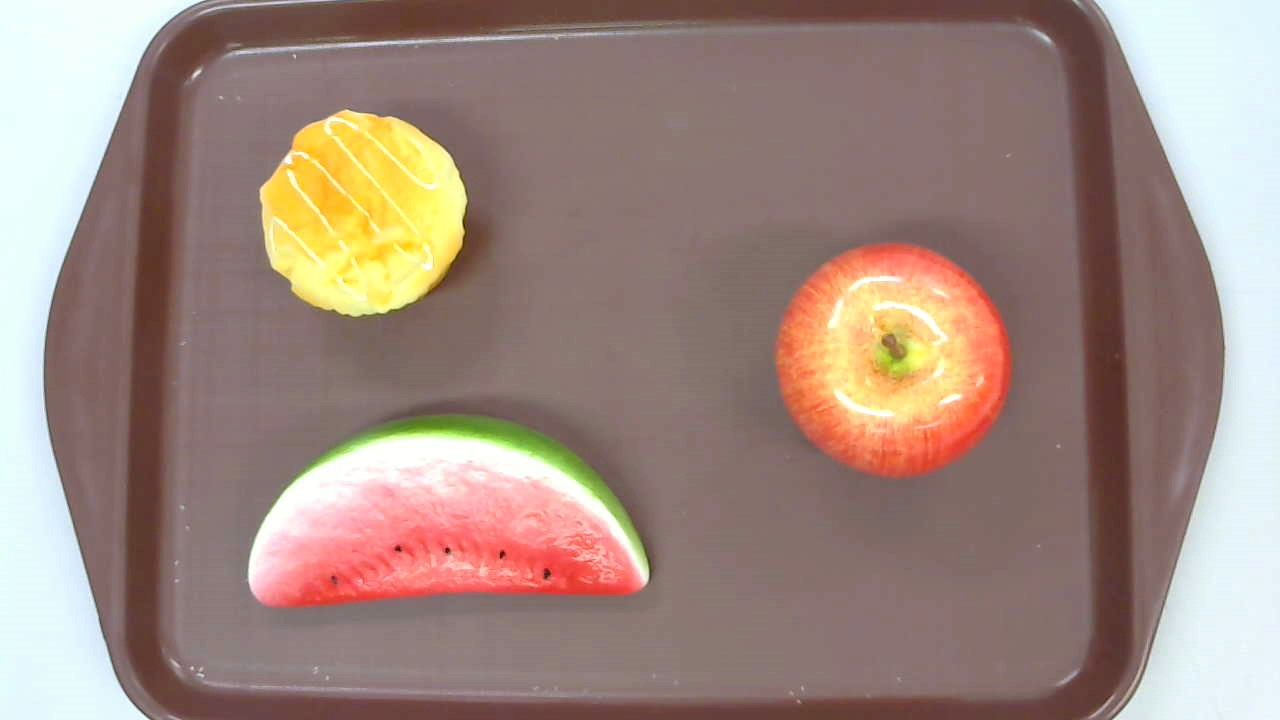cupcake: (259, 110, 468, 319)
red apple: (774, 241, 1013, 481)
water melon: (246, 412, 650, 609)
